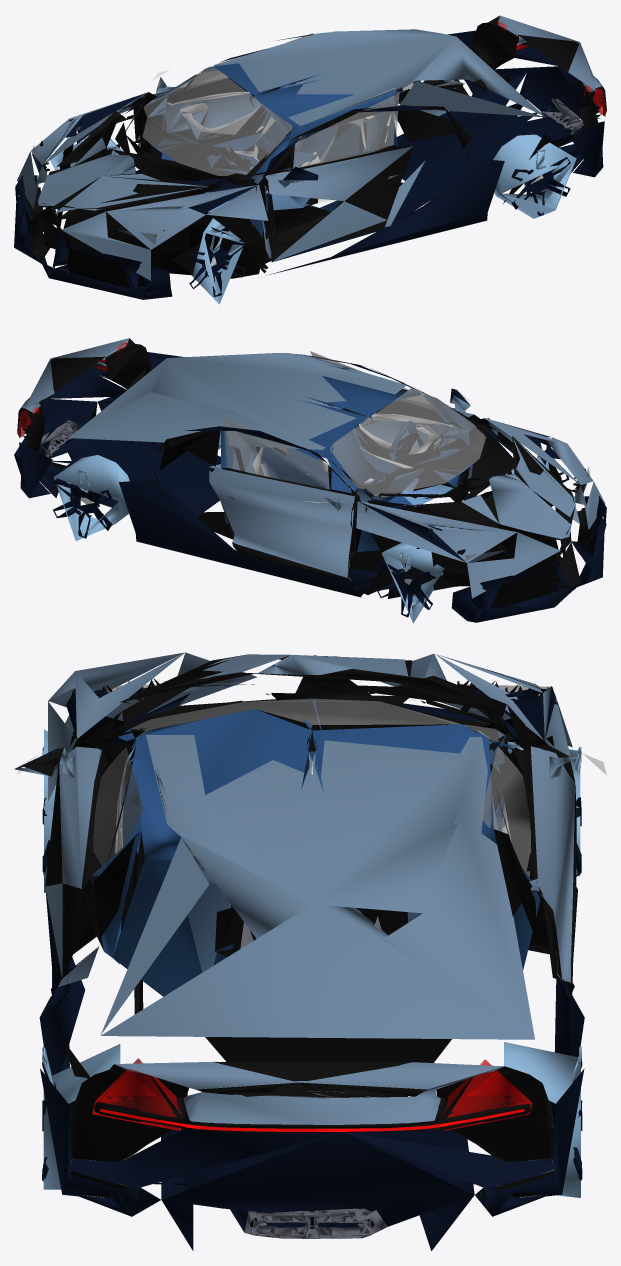
File: veh-bugatti-w16.glb
3 views of the same model, one above another, from view 1: azimuth 30°, elevation 25°; view 2: azimuth 150°, elevation 25°; view 3: azimuth 270°, elevation 25° (orthographic). The views are drawn at different scales.
Visible parts, largest first — view 1: Object_10; view 2: Object_10; view 3: Object_10.
Boxes of the visible parts, x1,y1,x2,y2 form: Object_10: [14, 15, 606, 304]; Object_10: [14, 338, 606, 623]; Object_10: [14, 652, 606, 1250].
Bounding box in the file's own units: 19.61 × 5.09 × 9.37.
23 materials, 4 textured.
